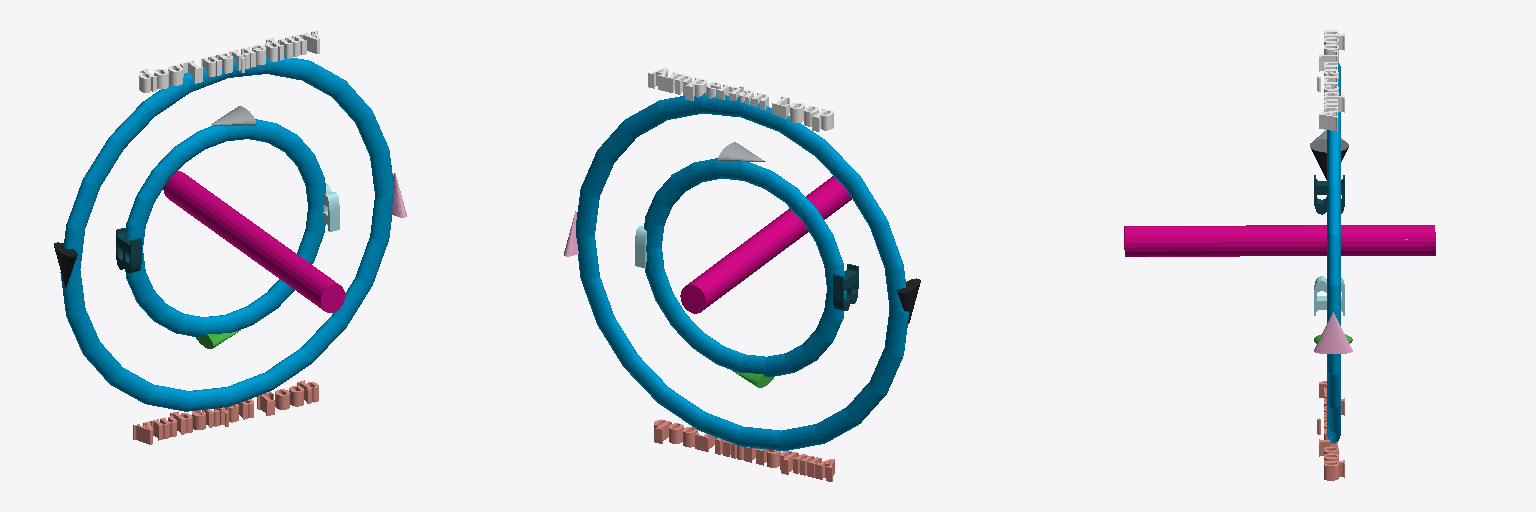
File: Around The wire.obj
3 views of the same model, side by side, from view 1: azimuth 30°, elevation 25°; view 2: azimuth 150°, elevation 25°; view 3: azimuth 270°, elevation 25° (orthographic).
Visible parts, largest first — view 1: obj_0; view 2: obj_0; view 3: obj_0.
Boxes of the visible parts, box(x1,y1,x2,y2) form: obj_0: box(54, 30, 406, 444); obj_0: box(564, 68, 920, 481); obj_0: box(1124, 30, 1435, 480).
Size of the model in its own units: 101 by 102 by 79.